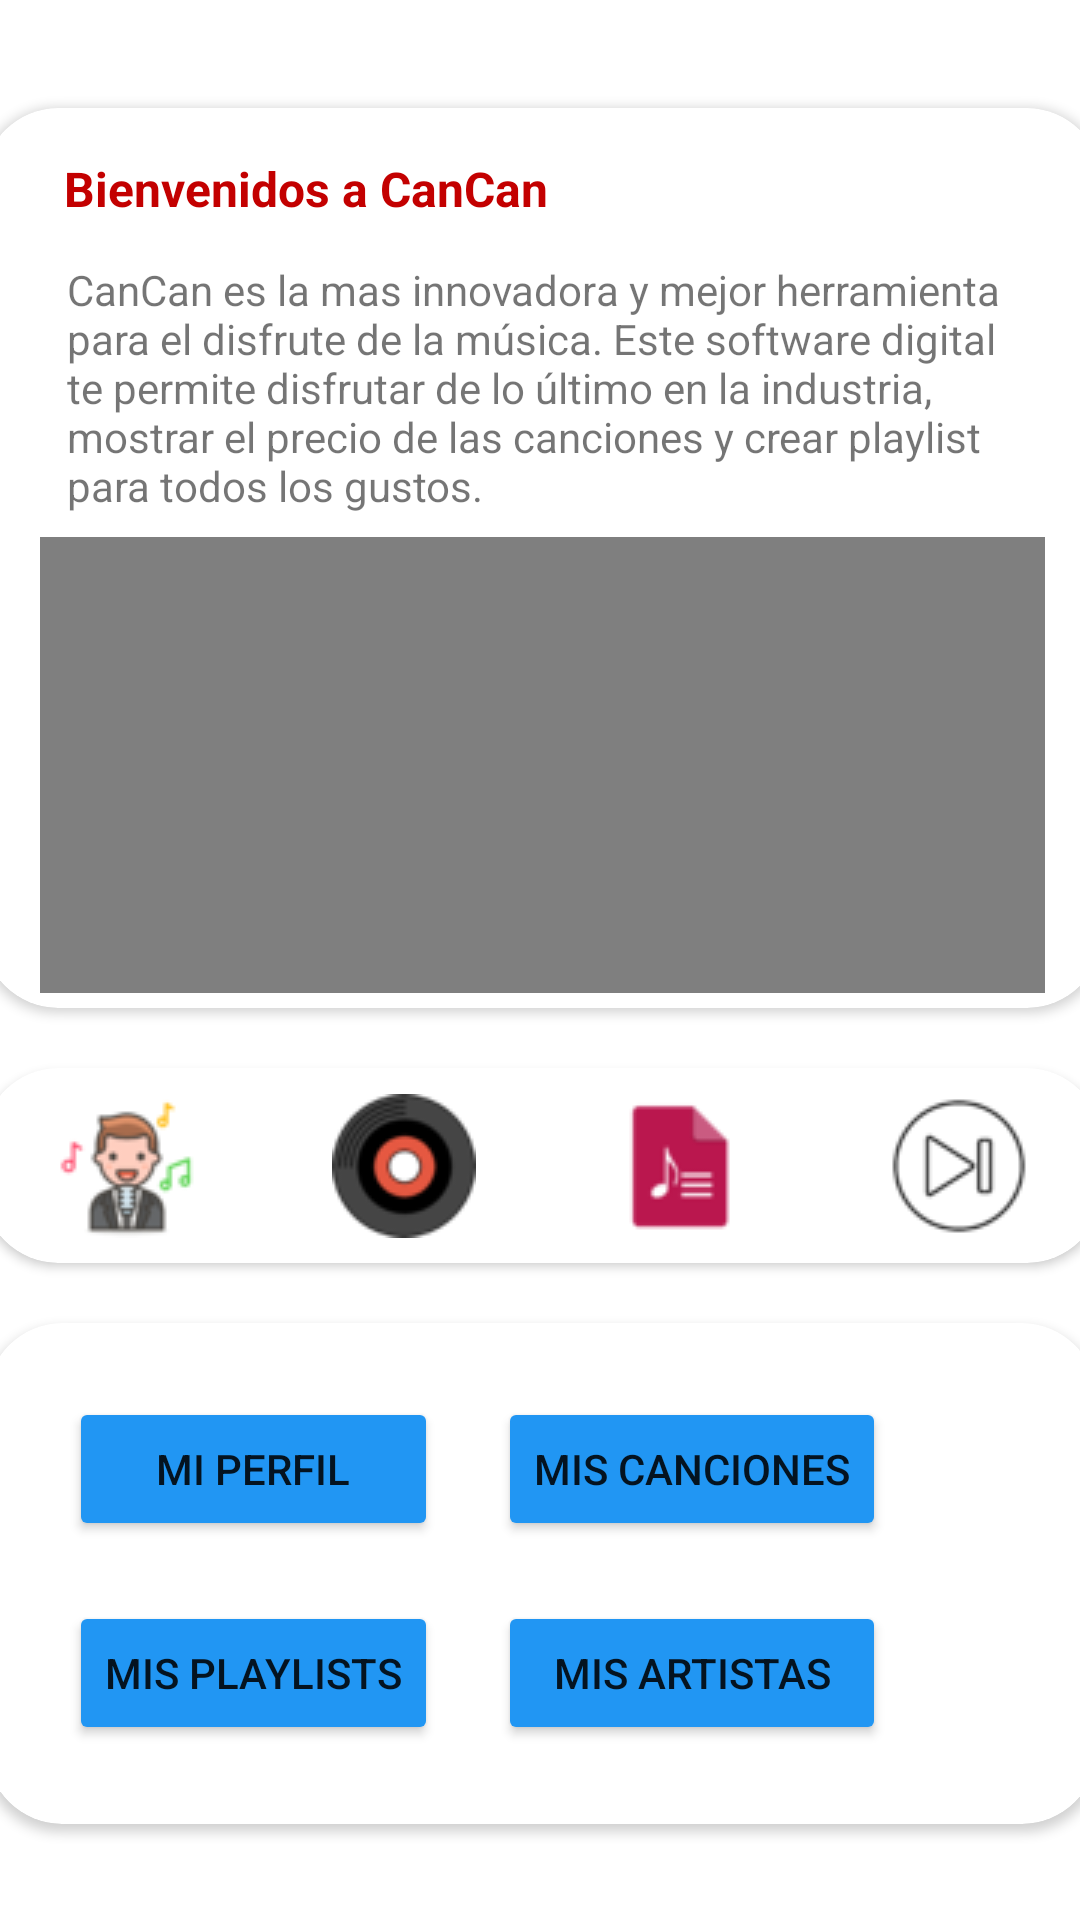

Icons on this 1080px x 1920px Android screen, each with its box as bbox=[x1, y1, x2, y2]:
disco: bbox=[332, 1094, 476, 1238]
playlist: bbox=[631, 1105, 730, 1229]
